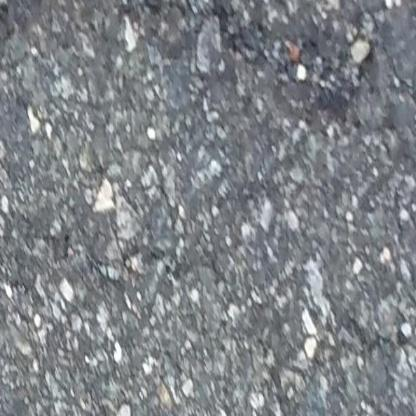Cracks: (0, 0, 401, 114)
